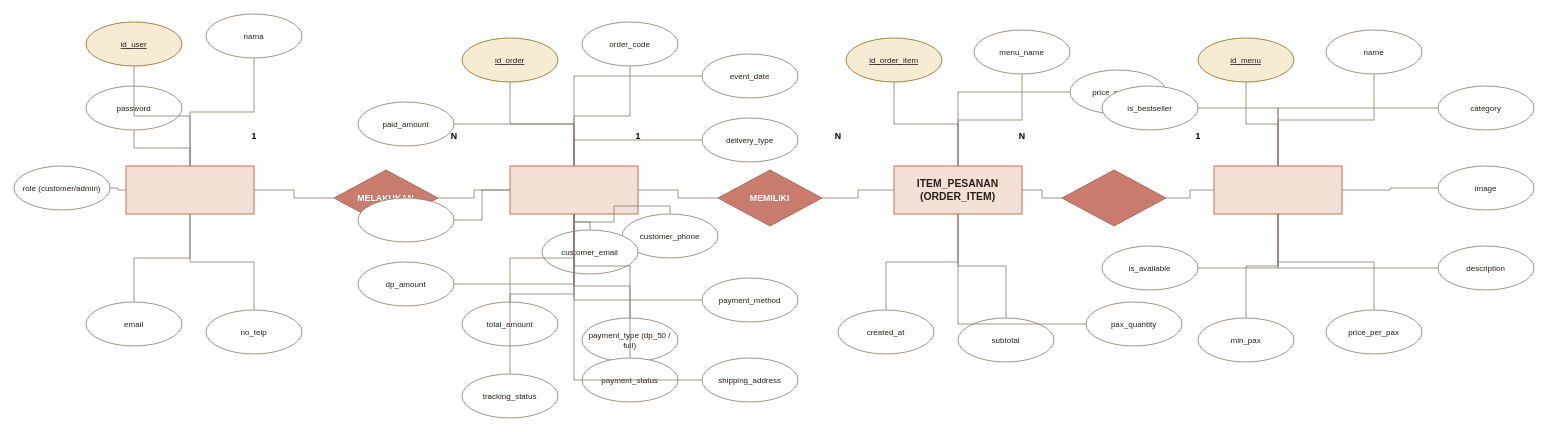
This 1548x432 diagram has some shape labels left out. Each missing label, with the centre of its shape:
"customer_name" goes at pixel 405 219.
"MENU" goes at pixel 1277 189.
"MEREFERENSI" goes at pixel 1113 197.
"PELANGGAN (USER)" goes at pixel 189 189.
"PESANAN (ORDER)" goes at pixel 573 189.
